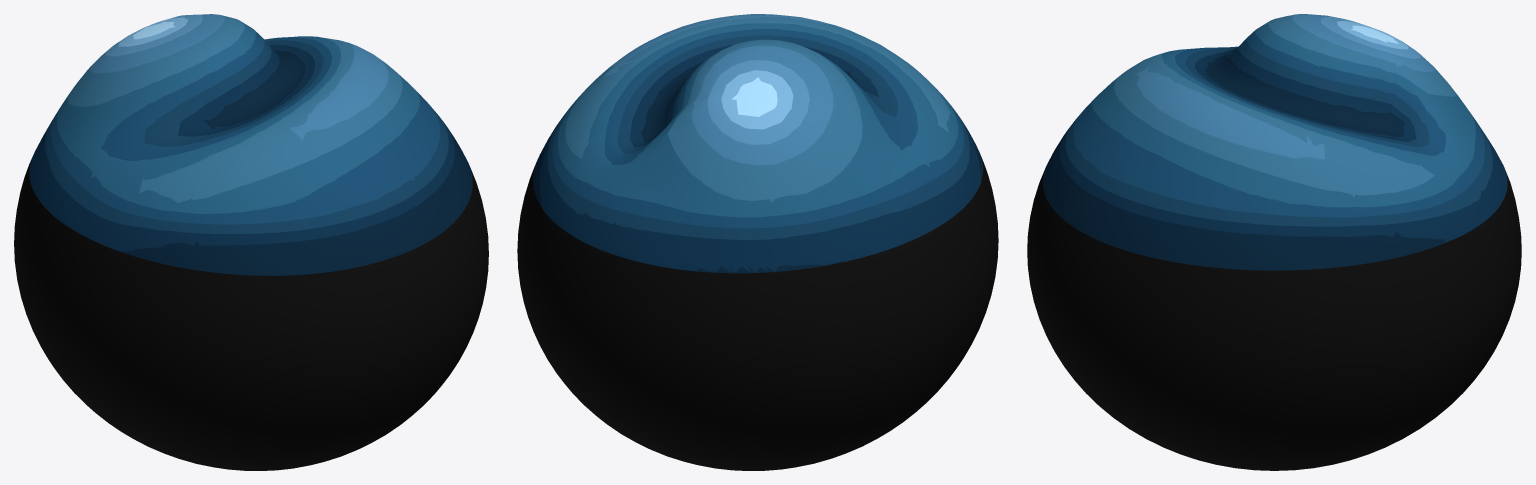
The model's file is gyges_bubble_m.glb.
The picture shows the model from 3 angles, left to right: view 1: azimuth 30°, elevation 25°; view 2: azimuth 150°, elevation 25°; view 3: azimuth 270°, elevation 25°; orthographic projection.
Visible parts, largest first — view 1: gyges_bubble_m; view 2: gyges_bubble_m; view 3: gyges_bubble_m.
Part boxes in pixels (box(x1,y1,x2,y2)): gyges_bubble_m: box(14, 14, 488, 470); gyges_bubble_m: box(517, 14, 998, 470); gyges_bubble_m: box(1027, 14, 1521, 470).
Size of the model in its own units: 17 by 16.44 by 18.
